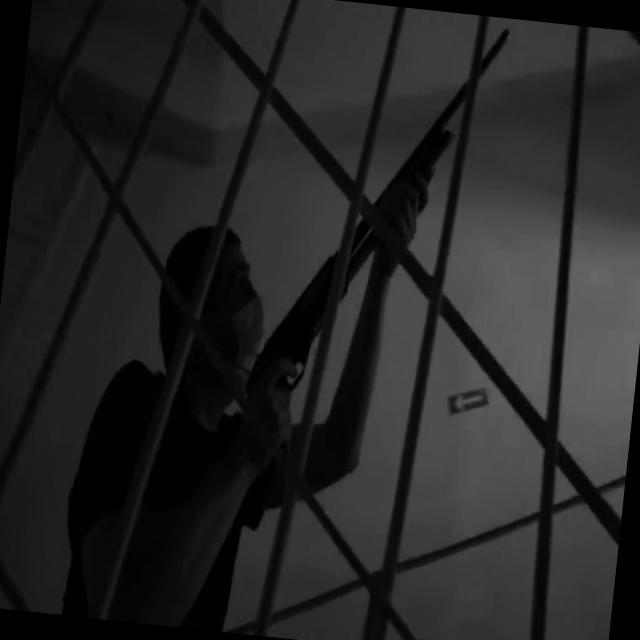gun: (238, 1, 510, 477)
person with a gun: (57, 0, 512, 640)
